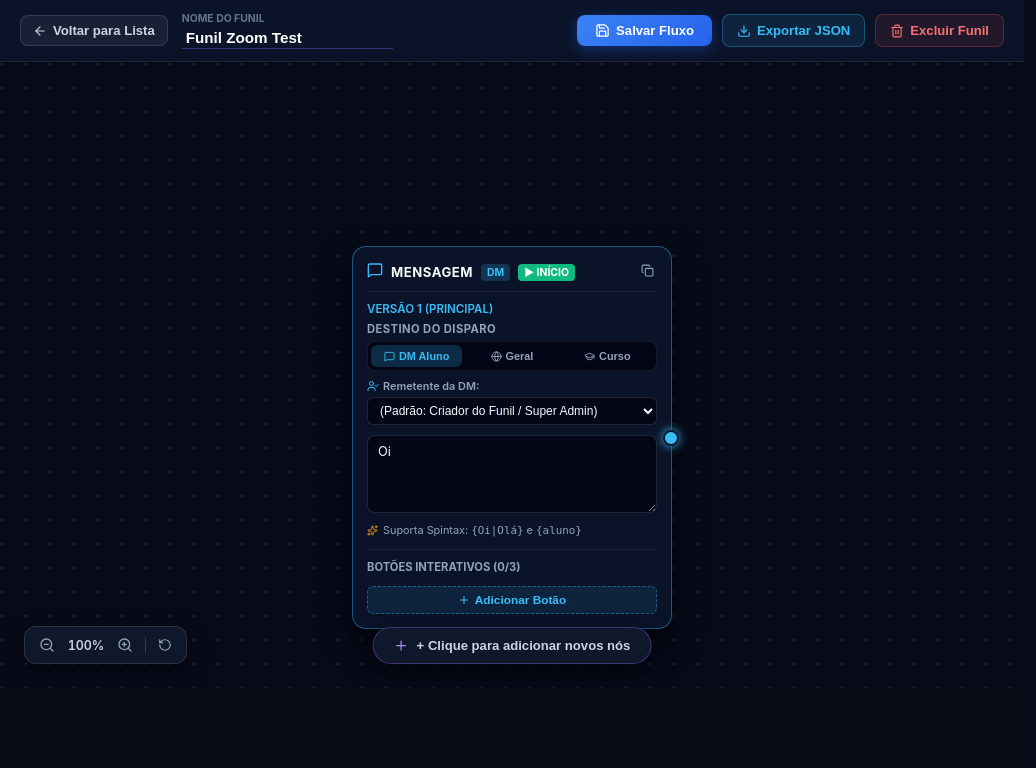
Funnel Components Unit Tests › handles zoom controls and resets zoom and pan
The width and height of the screenshot is (1036, 768).
Expected: the text with test id "zoom-percentage" reads "100%", [65, 638, 107, 652]
Note: Clicar em Zoom In (+)
Click the button with test id "zoom-in-btn". click: (125,645)
box: [113, 633, 137, 657]
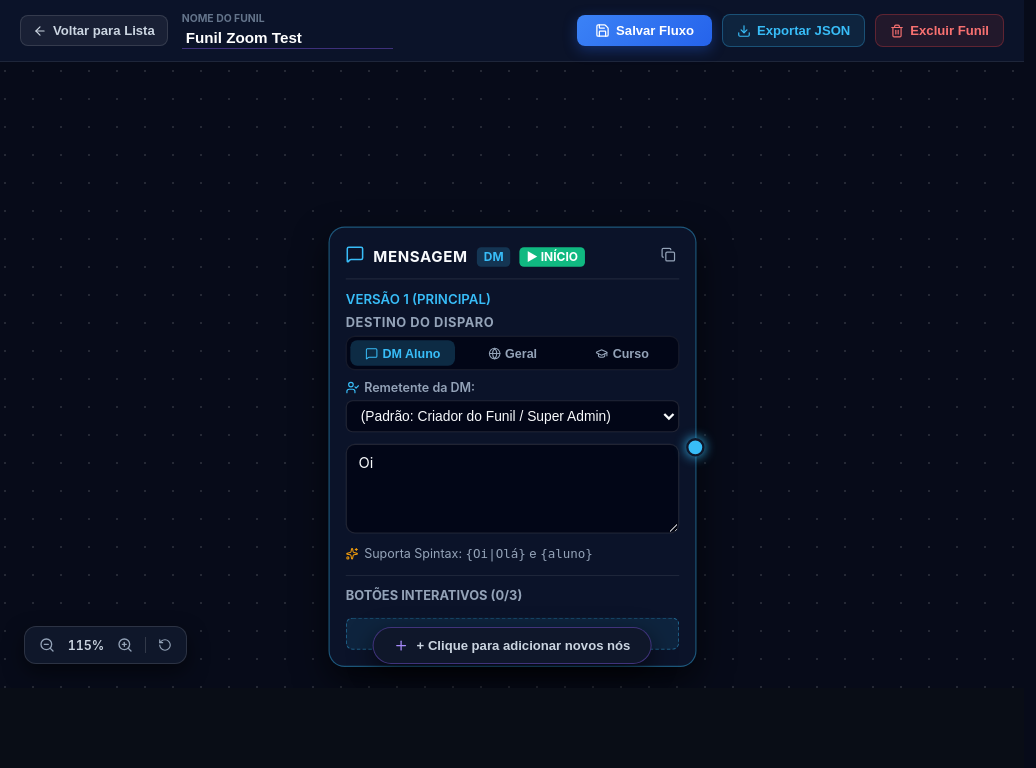
Now the text with test id "zoom-percentage" reads "115%", box [65, 638, 107, 652]
Note: Clicar em Zoom Out (-)
Click the button with test id "zoom-out-btn". click: (47,645)
box: [35, 633, 59, 657]
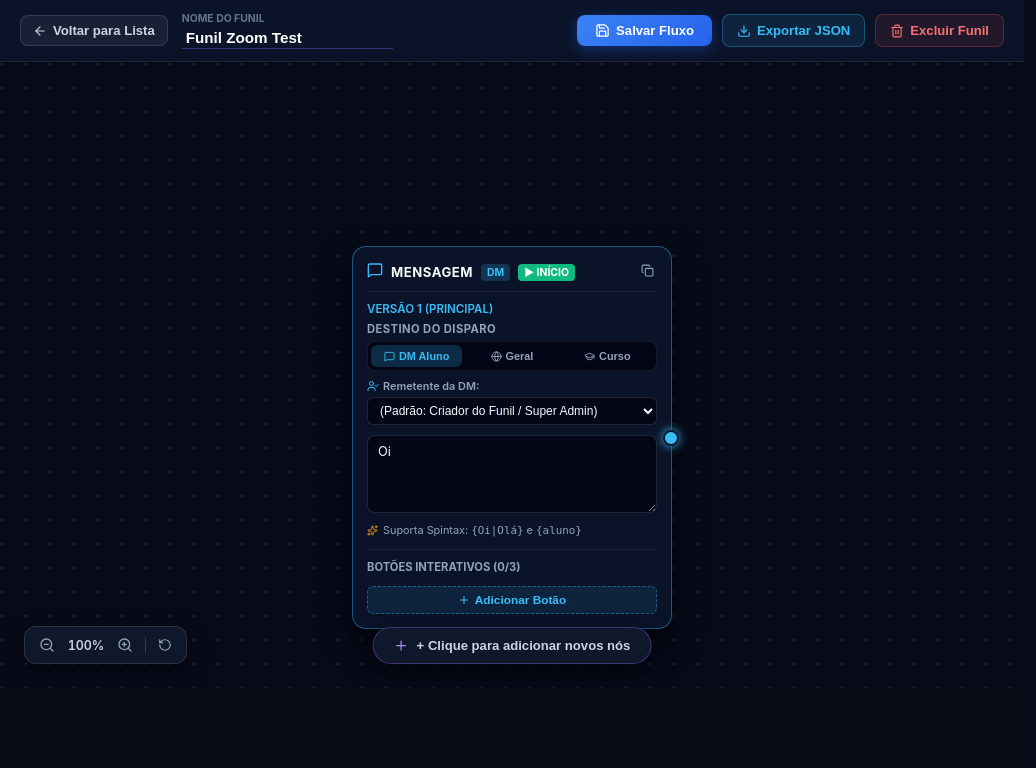
Now the text with test id "zoom-percentage" reads "100%", box [65, 638, 107, 652]
Note: Clicar novamente em Zoom In e depois Reset
Click the button with test id "zoom-in-btn". click: (125,645)
box: [113, 633, 137, 657]
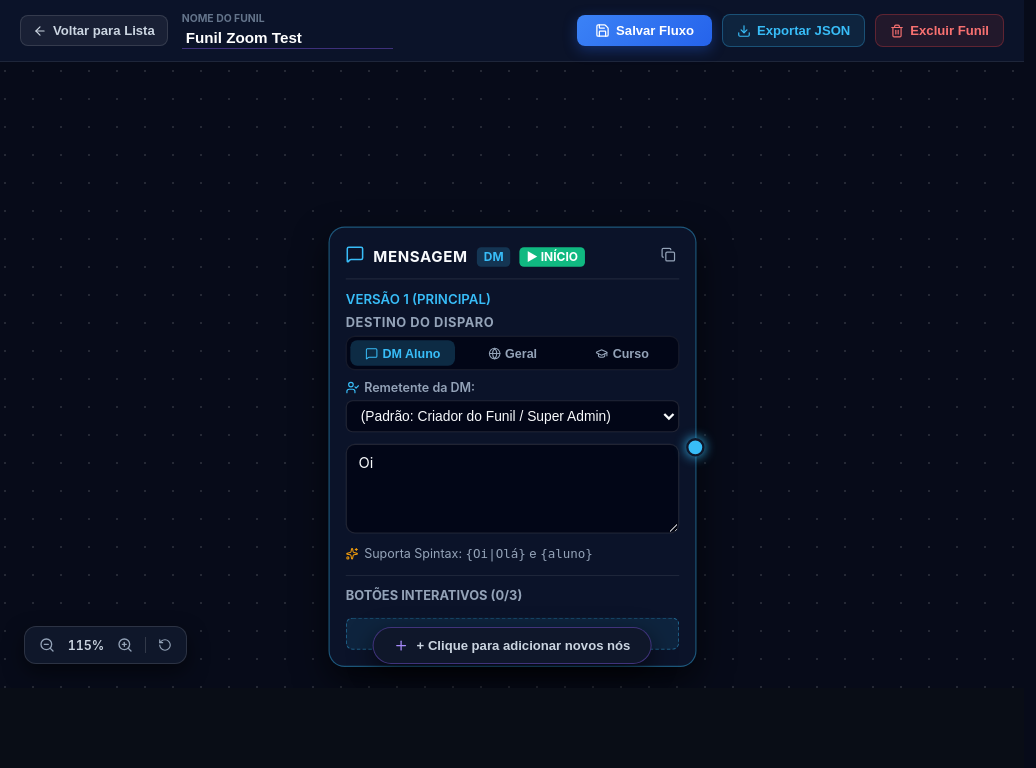
Now the text with test id "zoom-percentage" reads "115%", box [65, 638, 107, 652]
Click the button with test id "zoom-reset-btn". click: (165,645)
box: [154, 634, 176, 656]
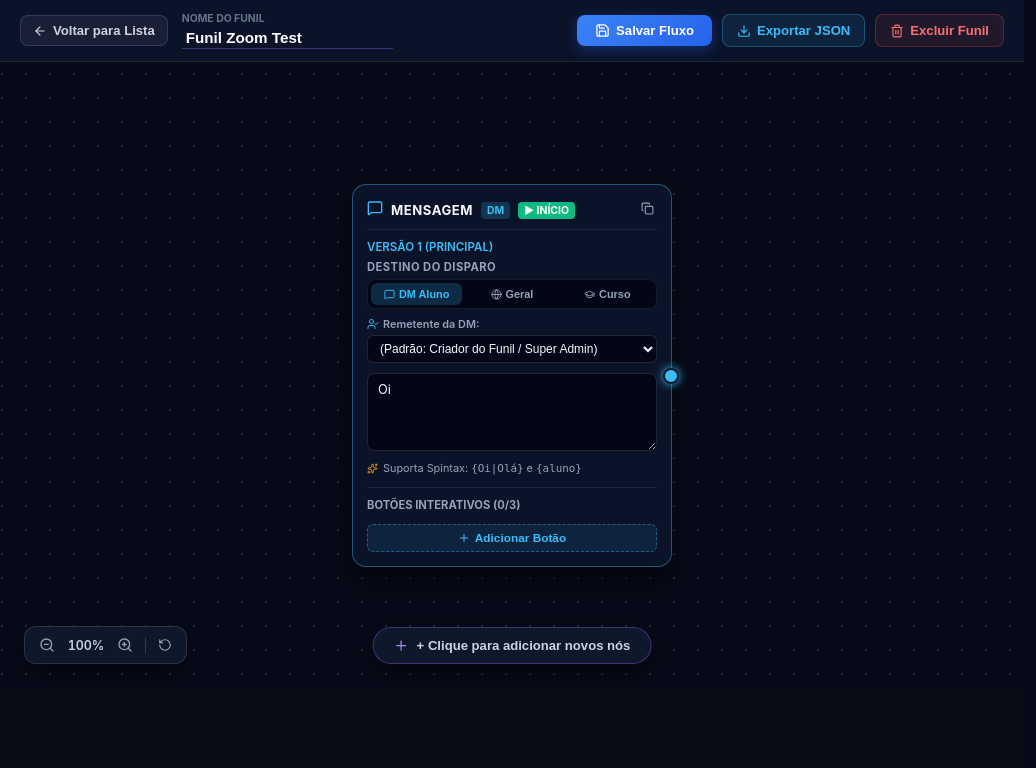
Now the text with test id "zoom-percentage" reads "100%", box [65, 638, 107, 652]
